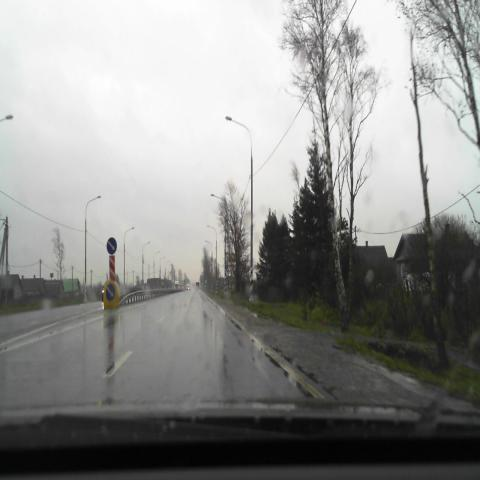4_2_1: (107, 236, 117, 255), (105, 283, 115, 301)
